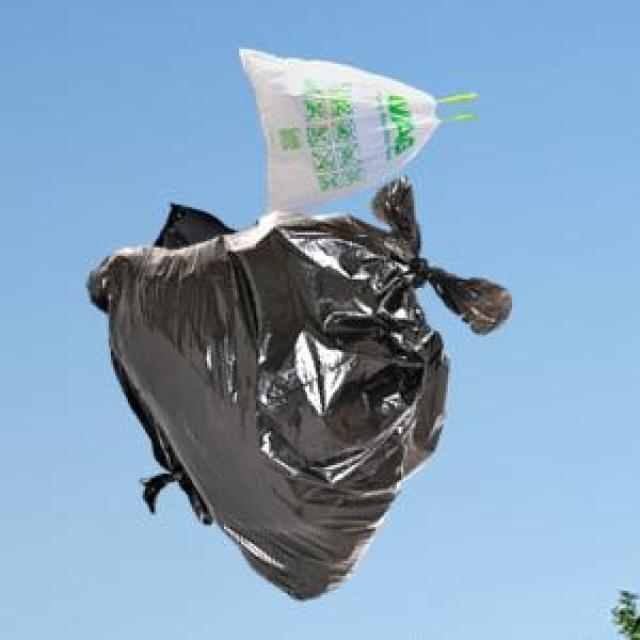miscellaneous trash: (83, 173, 508, 595), (114, 201, 233, 521)
